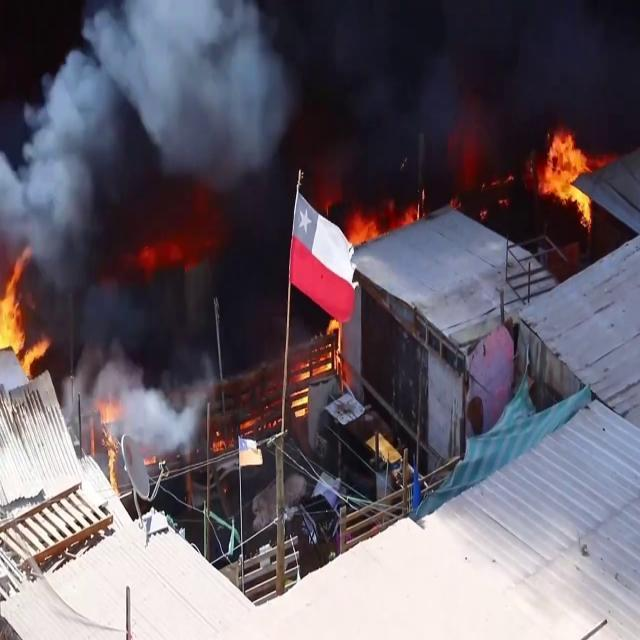Fire: (534, 122, 602, 230), (0, 251, 39, 369), (344, 196, 421, 246)
Smoke: (7, 0, 638, 215), (0, 1, 265, 472)
